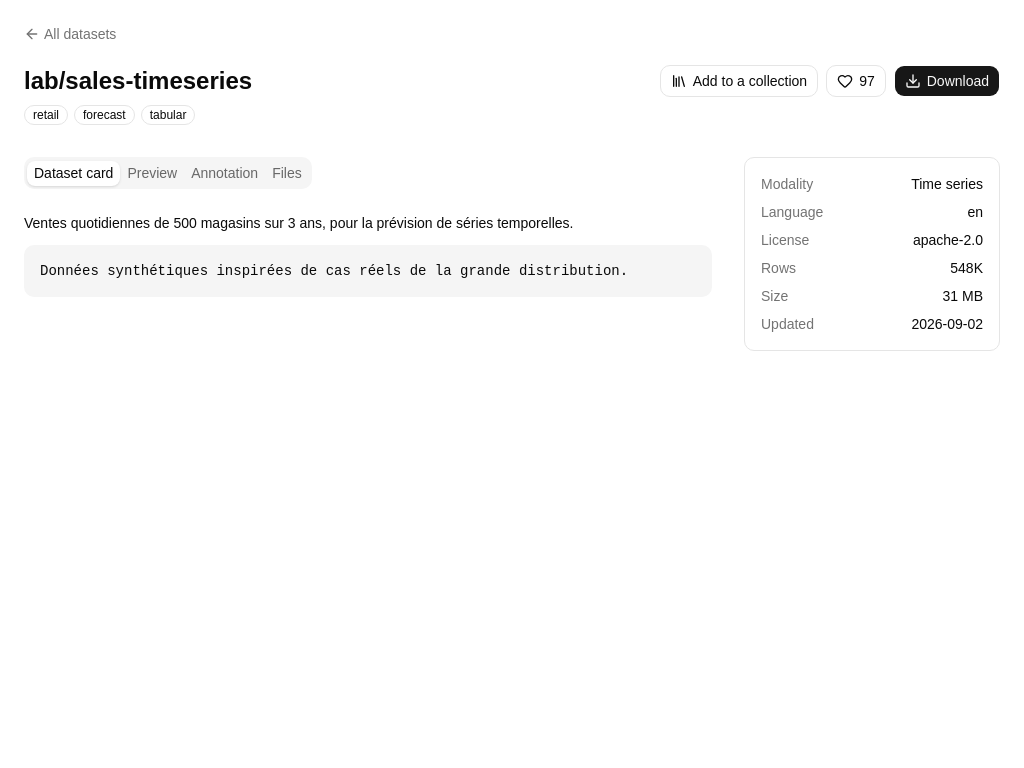
collections › adds a dataset to a collection from its page
The width and height of the screenshot is (1024, 768).
Click the button "Add to a collection": (739, 81) [660, 65, 818, 97]
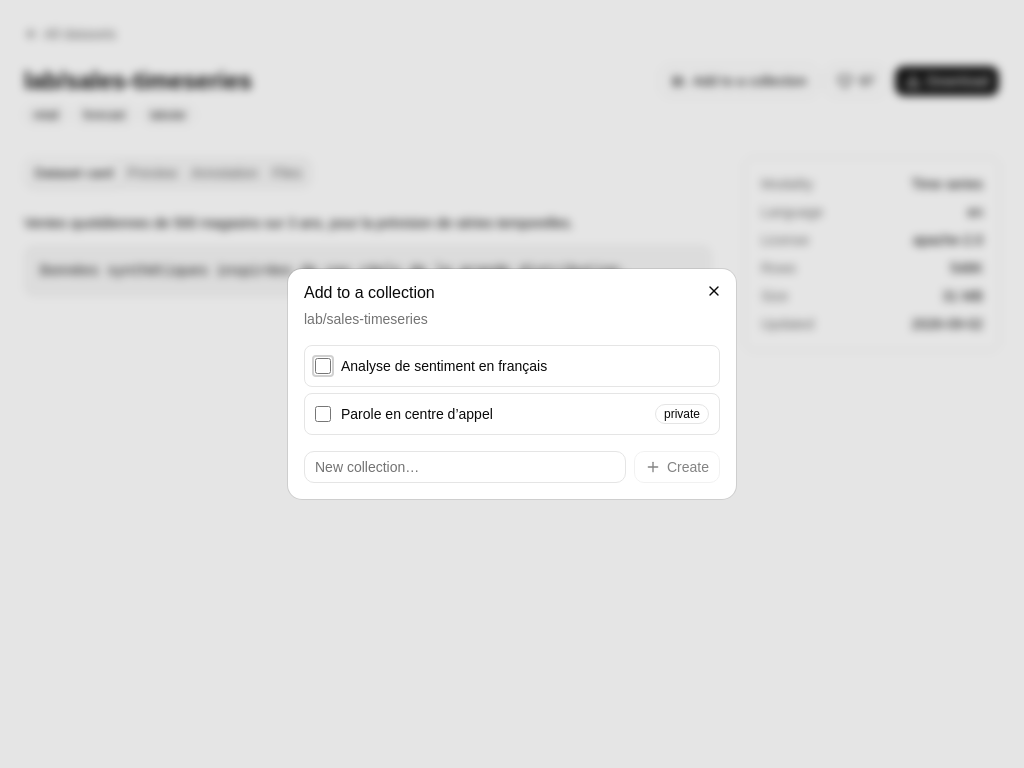
In the field labelled "New collection…": (465, 467) [304, 451, 626, 483], type "Séries de ventes"
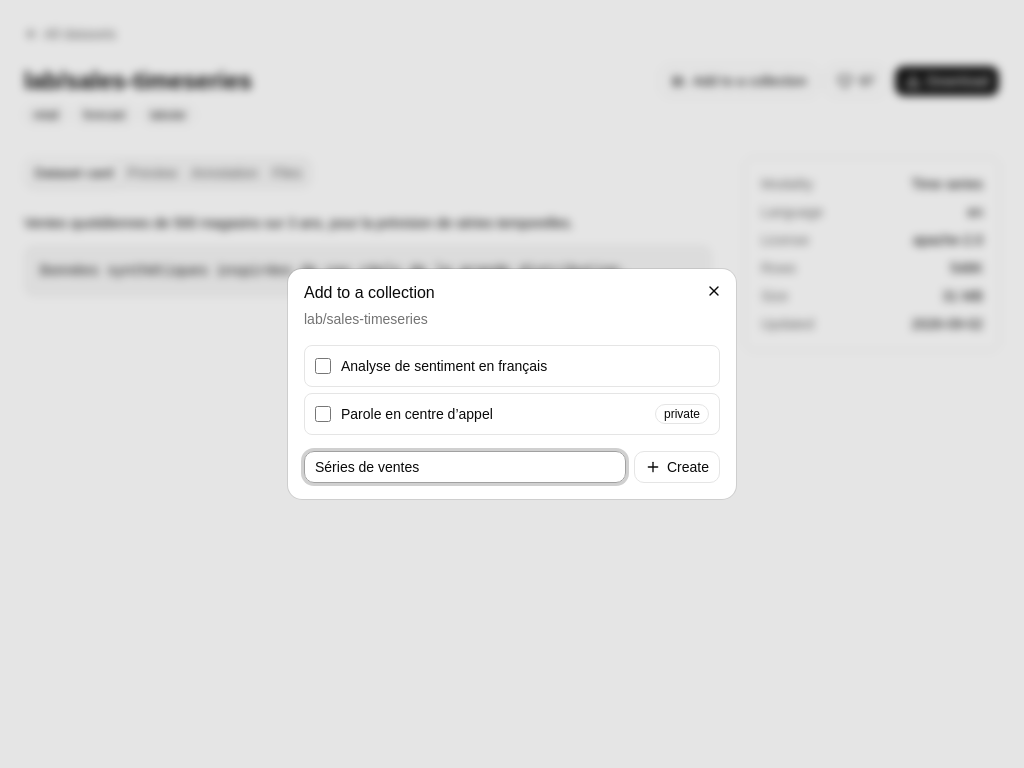
Click the button "Create": (677, 467) [634, 451, 720, 483]
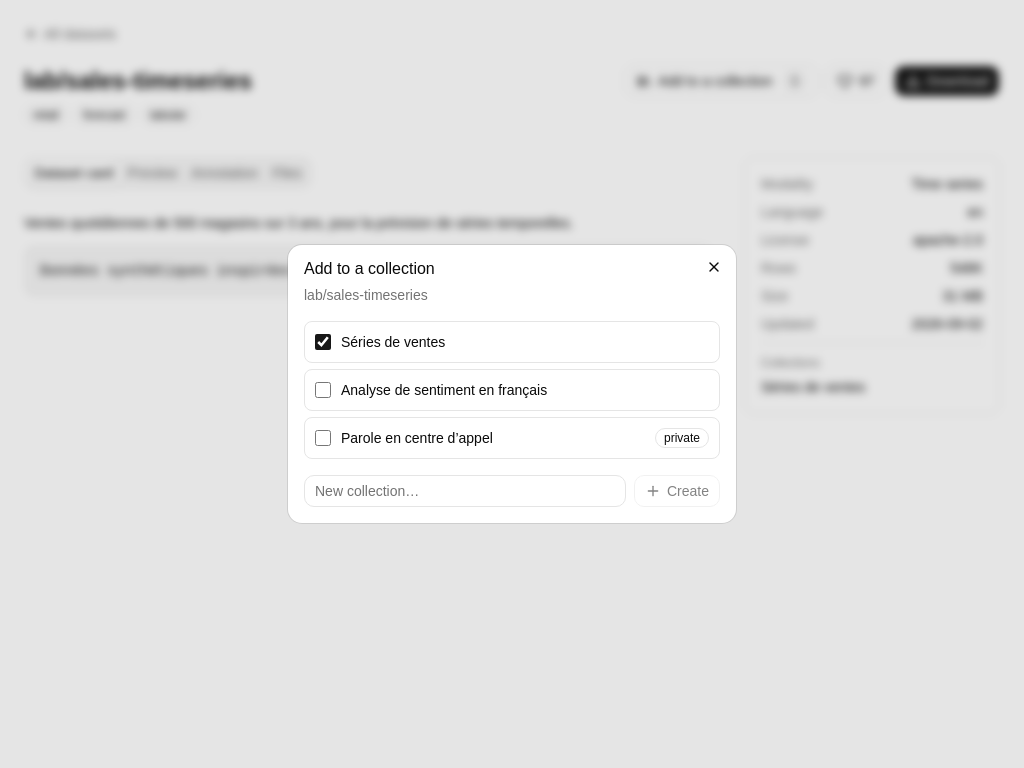
Expected: the text "Séries de ventes" is shown, [341, 334, 445, 350]
